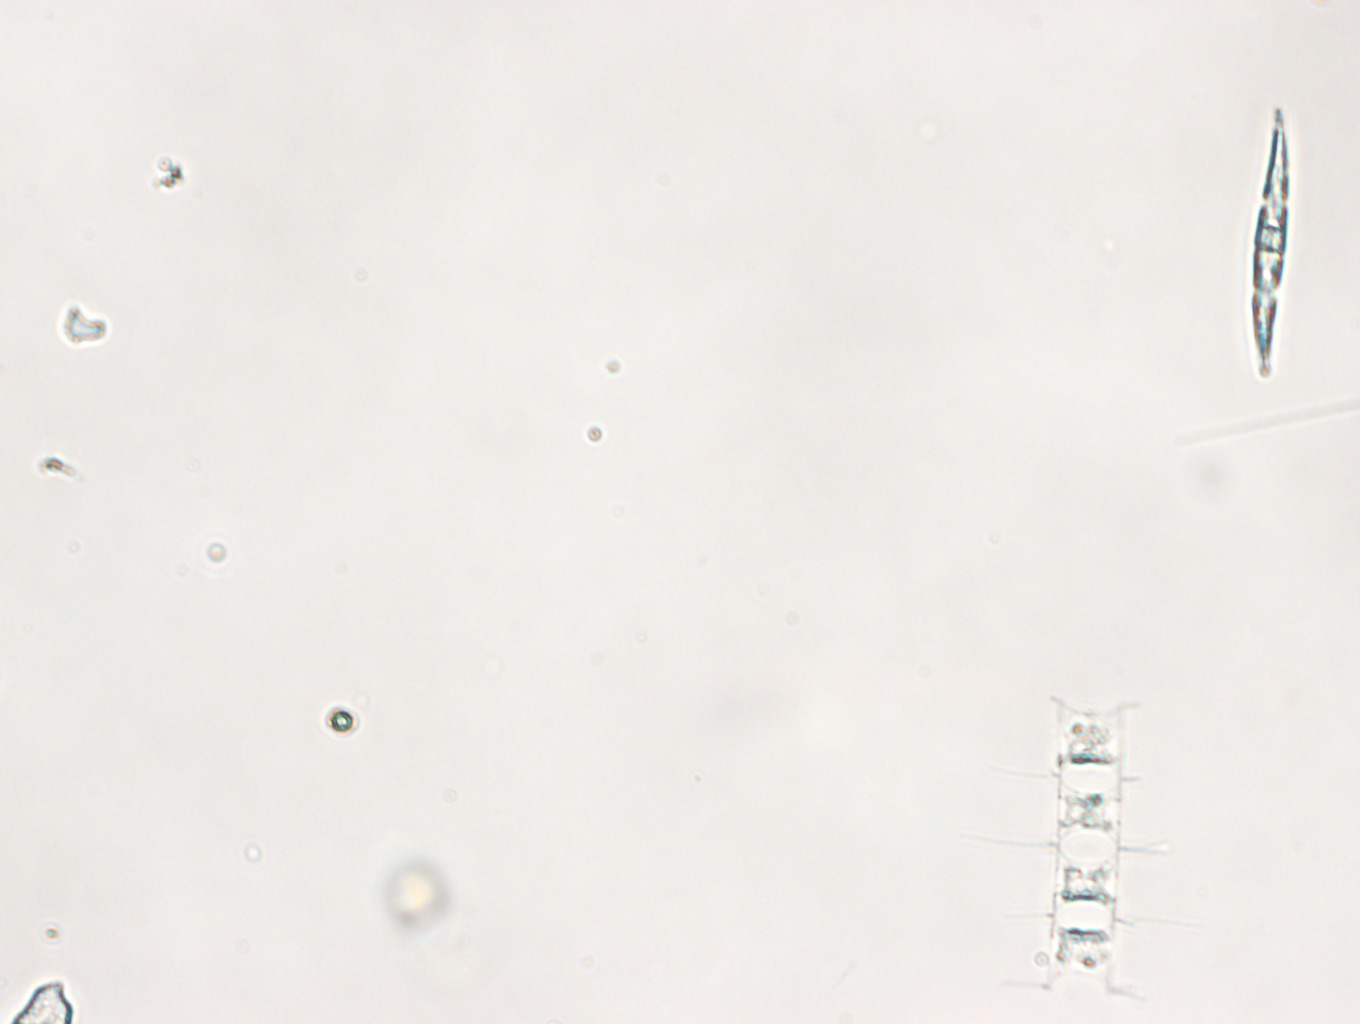chaetoceros: (977, 692, 1183, 1008)
pleurosigma pelagicum: (1249, 99, 1290, 381)
